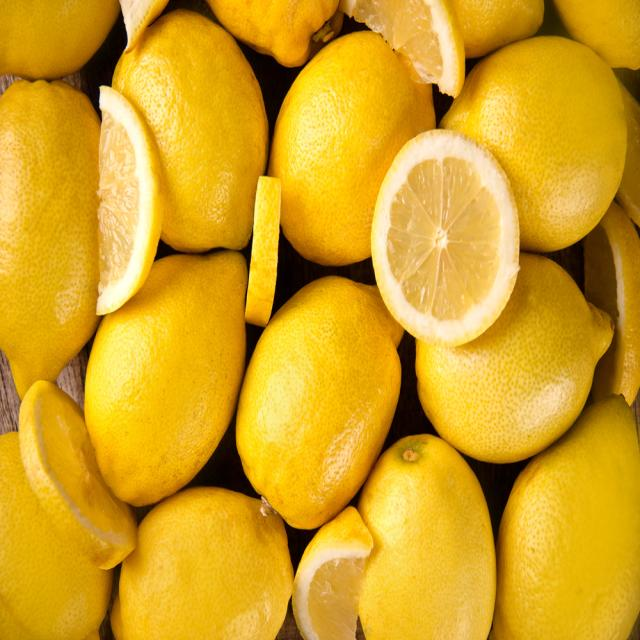lemon: (406, 236, 611, 459), (86, 251, 252, 508), (109, 5, 278, 254), (438, 36, 629, 254), (242, 279, 399, 528), (491, 398, 639, 636), (280, 29, 427, 267), (1, 77, 108, 393), (353, 438, 495, 636), (115, 487, 295, 639)
